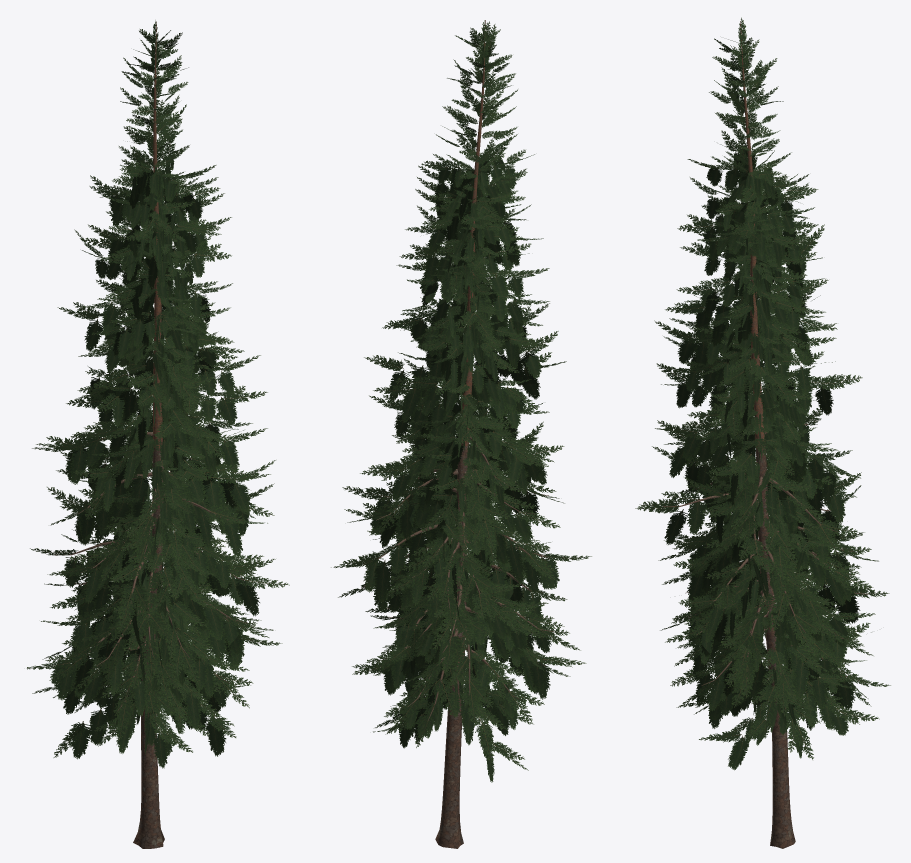
Rendered from spruce_b_LOD0.glb.
3 renders of one model, left to right at view 1: azimuth 30°, elevation 25°; view 2: azimuth 150°, elevation 25°; view 3: azimuth 270°, elevation 25°, orthographic. The views are drawn at different scales.
Parts seen in each view (by area): view 1: Spruce_B_LOD0_Foliage, Spruce_B_LOD0_Bark; view 2: Spruce_B_LOD0_Foliage, Spruce_B_LOD0_Bark; view 3: Spruce_B_LOD0_Foliage, Spruce_B_LOD0_Bark.
Part boxes in pixels (x1,y1,x2,y2): Spruce_B_LOD0_Foliage: (27,20,289,768); Spruce_B_LOD0_Bark: (54,21,256,848); Spruce_B_LOD0_Foliage: (331,20,591,782); Spruce_B_LOD0_Bark: (362,20,564,848); Spruce_B_LOD0_Foliage: (635,17,890,770); Spruce_B_LOD0_Bark: (662,21,868,848).
Bounding box in the file's own units: 7.42 × 23.11 × 6.9.
2 materials, 2 textured.
